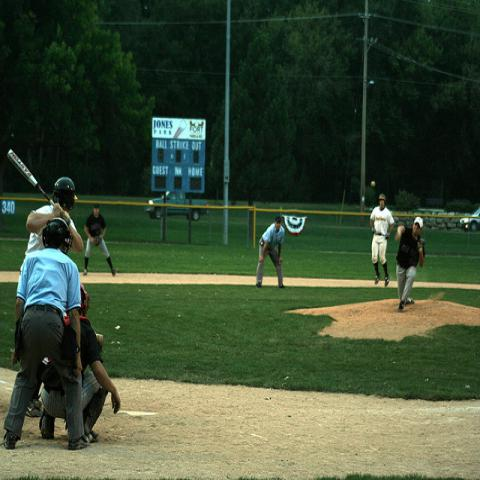car: (146, 188, 208, 220), (459, 208, 479, 232), (435, 217, 460, 228), (370, 207, 373, 212)
truck: (144, 190, 209, 222)
